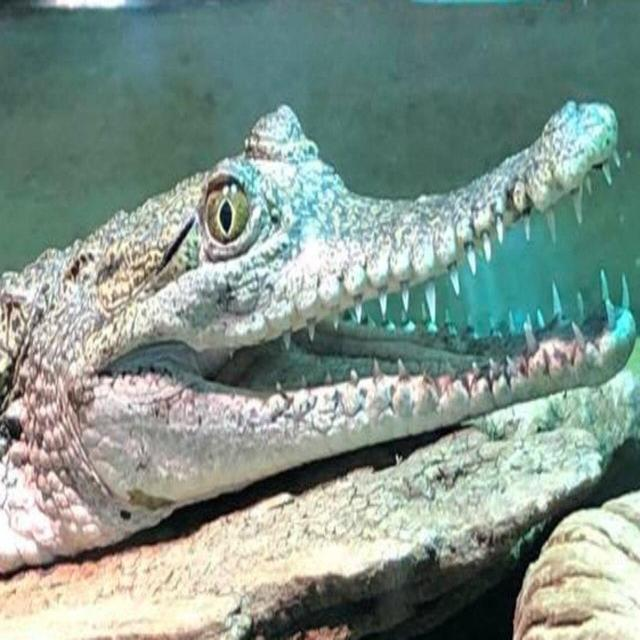crocodile: (0, 69, 640, 597)
